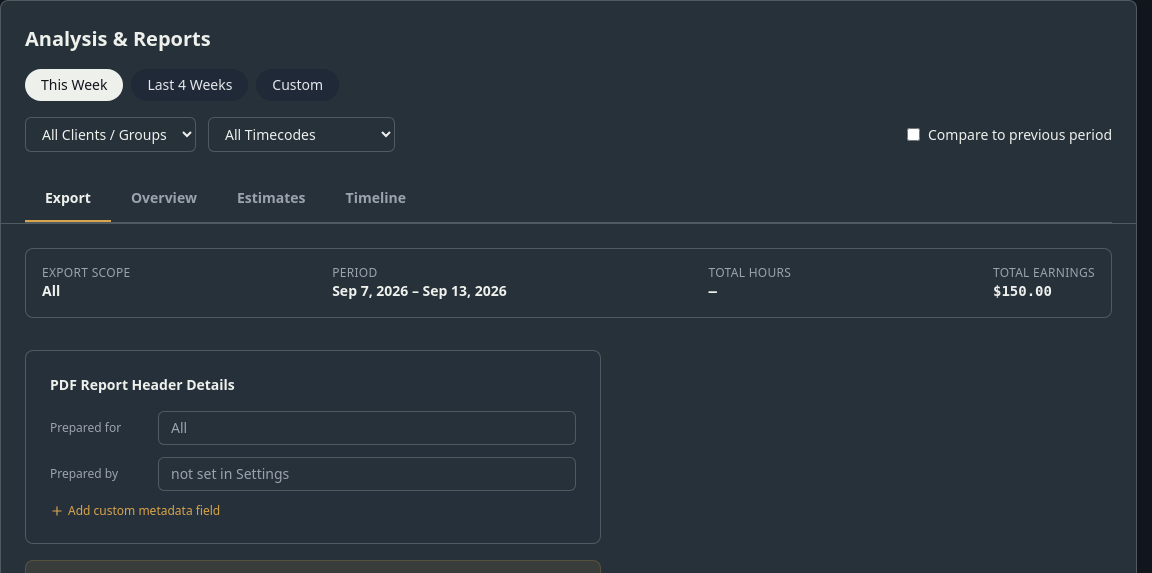
Test: Fixed Cost & Template Deletion › AnalysisView with Fixed Cost Entries › includes zero-duration entries with manualAmount in breakdown and total earnings
Click the tab "Overview" at (164, 199), box 111,176 -> 217,222
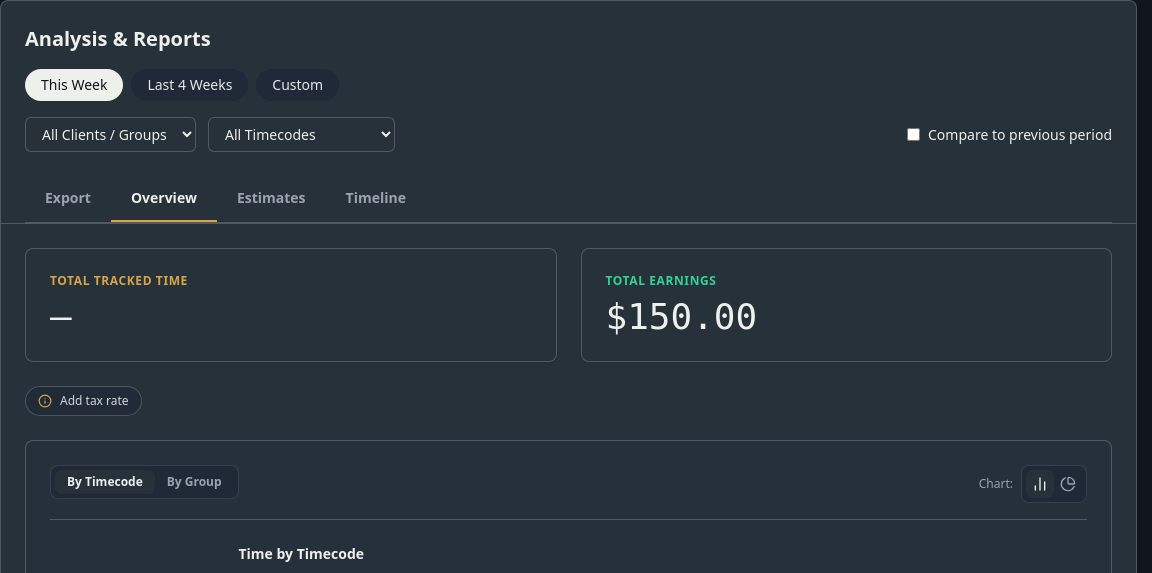
Expected: the text "TOTAL EARNINGS" is shown, 606,273 -> 716,289
Result: the text "$150.00" is shown at 606,296 -> 757,337
